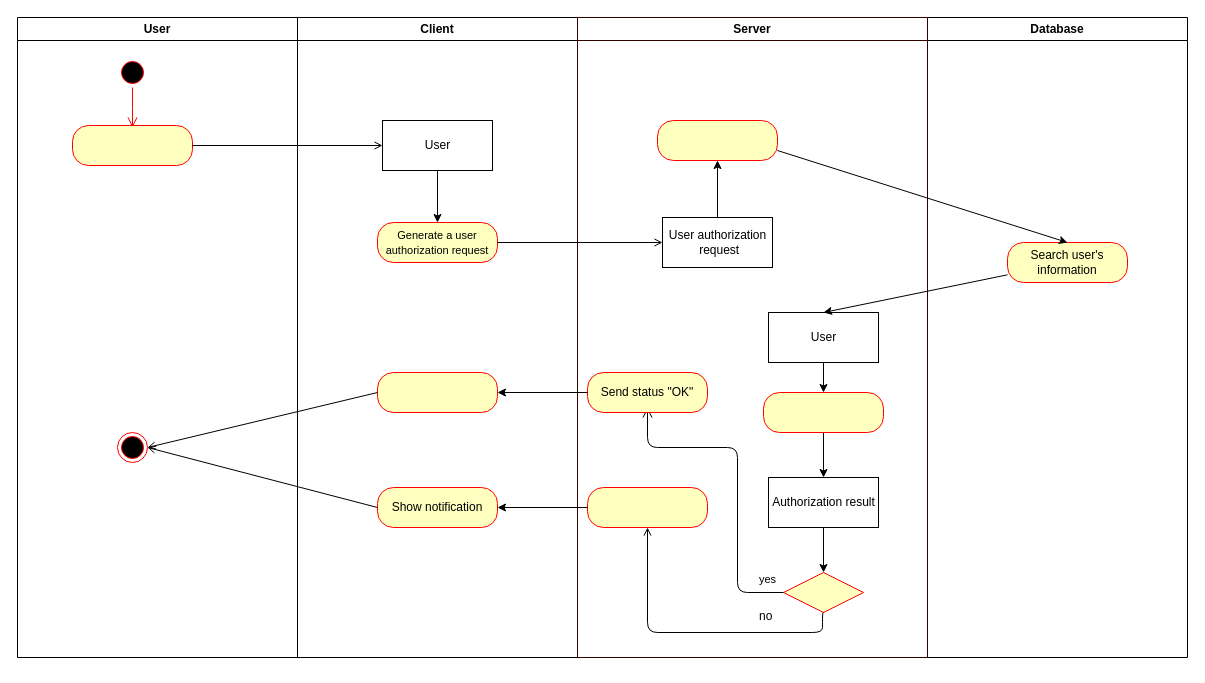
Image size: 1205x683. Some labels were removed from this diagram. Each missing label, with the centre of its shape:
Check user exist and passwords equality: point (823, 412)
Enter e-mail and password: point (132, 145)
Generate query the database for user info: point (717, 140)
Send status "FORBIDDEN": point (647, 507)
Show main page: point (437, 392)
Succsses: point (823, 592)
